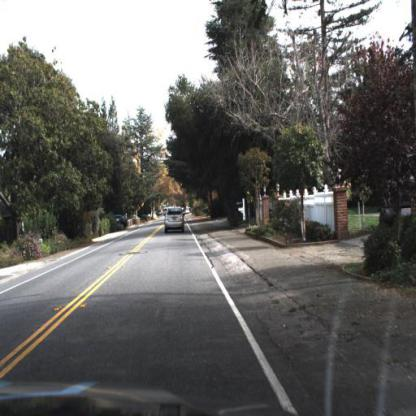car: (164, 200, 187, 234), (111, 211, 133, 232)
